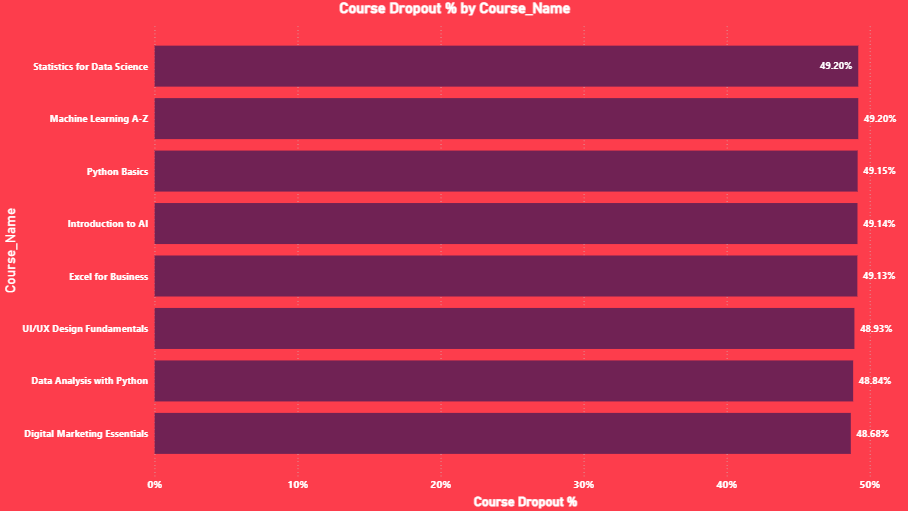

This screenshot's page, from the dashboard's own definition file:
{"tool":"powerbi","page":{"name":"Course Analysis","canvas":[1280,720],"ordinal":1},"visuals":[{"type":"clusteredBarChart","fields":{"Y":["final_data.Course Dropout %"],"Category":["final_data.Course_Name"]},"box":[0,0,1280,720.3],"z":0}]}

Visuals, with their boxes in screenshot pixels (x1, y1, x2, y2), scaled from the page's 1280x720 canvas onto the 908x511 screenshot:
clusteredBarChart - final_data.Course Dropout % x final_data.Course_Name: (left=0, top=0, right=907, bottom=510)
